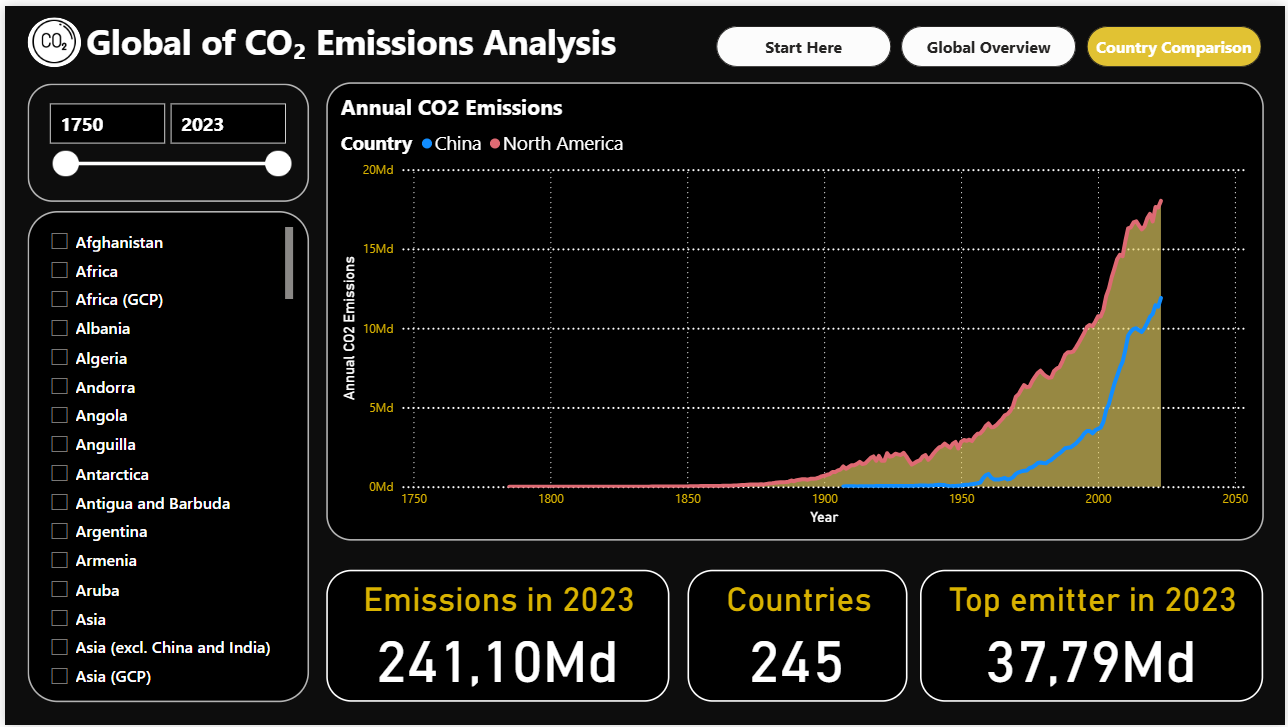

Layout of this report page (visuals, bound fields, positions):
{"tool":"powerbi","page":{"name":"Country Comparison","canvas":[1280,720],"ordinal":2},"visuals":[{"type":"card","title":"Top emitter in 2023","fields":{"Values":["Max(annual-co2-emissions-per-country.Annual CO₂ emissions)"]},"box":[915.5,564.3,342.9,132.1],"z":0},{"type":"pageNavigator","box":[711.2,20,547.5,41.2],"z":2000},{"type":"shape","box":[22.5,11.2,53.8,50],"z":3000},{"type":"image","box":[18.8,7.5,61.2,56.2],"z":4000},{"type":"textbox","title":"Global of CO₂ Emissions Analysis","box":[76.2,11.2,650,50],"z":5000},{"type":"slicer","fields":{"Values":["annual-co2-emissions-per-country.Country"]},"box":[22.5,205,281.2,491.2],"z":6000},{"type":"slicer","fields":{"Values":["annual-co2-emissions-per-country.Year"]},"box":[22.5,77.5,281.2,118.8],"z":7000},{"type":"card","title":"Emissions in 2023","fields":{"Values":["Sum(annual-co2-emissions-per-country.Annual CO₂ emissions)"]},"box":[321.4,564.3,342.9,132.1],"z":7001},{"type":"card","title":"Countries","fields":{"Values":["CountNonNull(annual-co2-emissions-per-country.Annual CO₂ emissions)"]},"box":[682.1,564.3,220.2,132.1],"z":7002},{"type":"stackedAreaChart","title":"Annual CO2 Emissions","fields":{"Series":["annual-co2-emissions-per-country.Country"],"Y":["Sum(annual-co2-emissions-per-country.Annual_CO2_emissions)"],"Category":["annual-co2-emissions-per-country.Year"]},"box":[321.1,76.8,937.2,458.3],"z":7003}]}

Visuals, with their boxes in screenshot pixels (x1, y1, x2, y2), scaled from the page's 1280x720 canvas onto the 1288x727 screenshot:
"Top emitter in 2023" card: 921 570 1266 703
pageNavigator: 716 20 1267 62
shape: 23 11 77 62
image: 19 8 80 64
"Global of CO₂ Emissions Analysis" textbox: 77 11 731 62
slicer - annual-co2-emissions-per-country.Country: 23 207 306 703
slicer - annual-co2-emissions-per-country.Year: 23 78 306 198
"Emissions in 2023" card: 323 570 668 703
"Countries" card: 686 570 908 703
"Annual CO2 Emissions" stackedAreaChart: 323 78 1266 540
